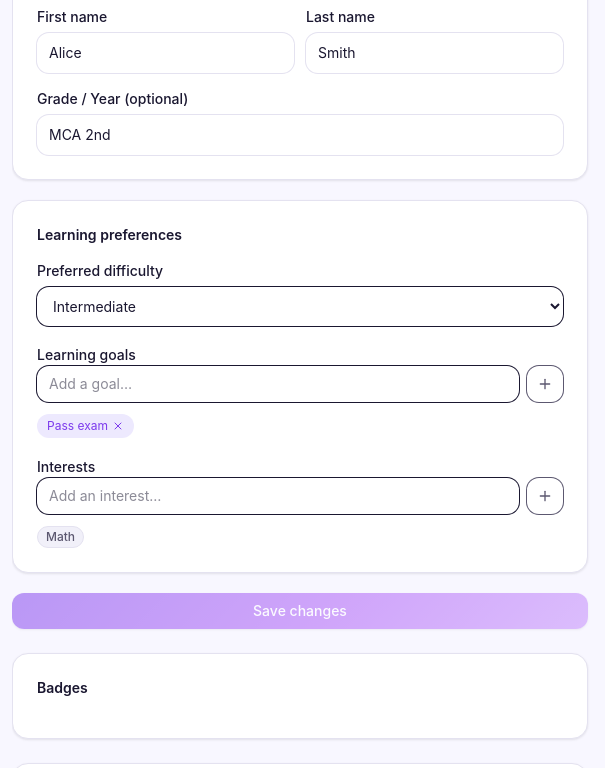
Test case: ProfilePage › adds a new goal on Enter key press (plus button path)
The width and height of the screenshot is (605, 768).
(page scrolled)
Type "Learn React" into the field with placeholder "Add a goal…". click: x=278, y=384
box: [37, 366, 519, 402]
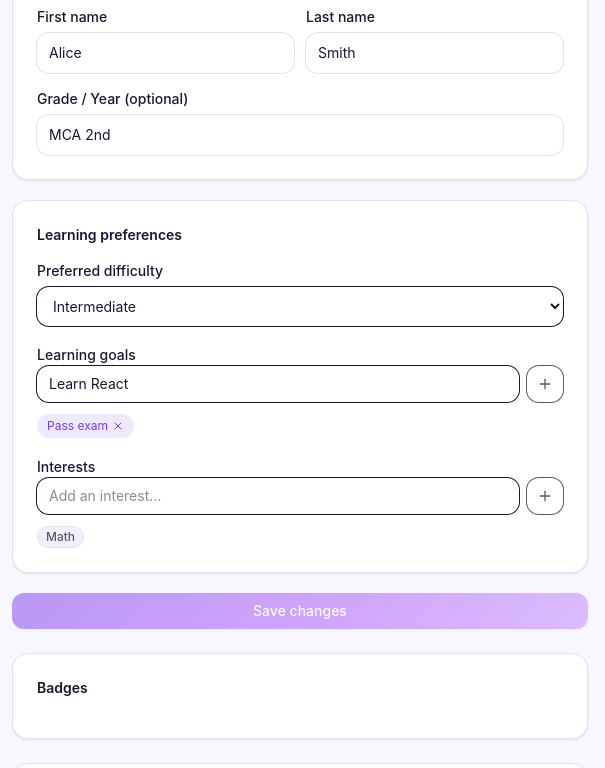
Press Enter in the field with placeholder "Add a goal…", box [37, 366, 519, 402]
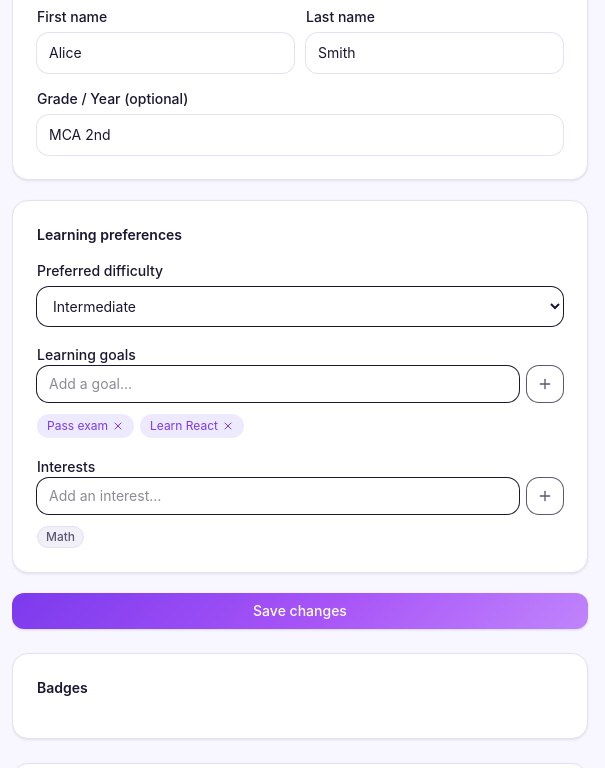
expect the text "Learn React" is shown: met, box [140, 414, 244, 438]
